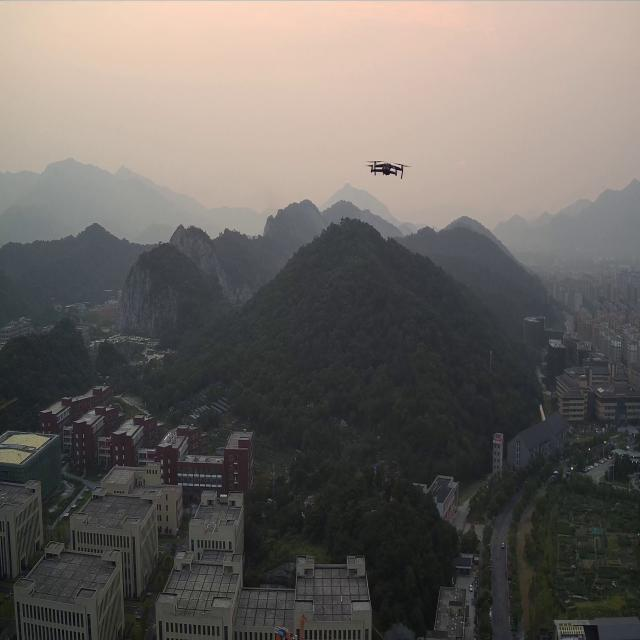UAV: (369, 159, 406, 180)
